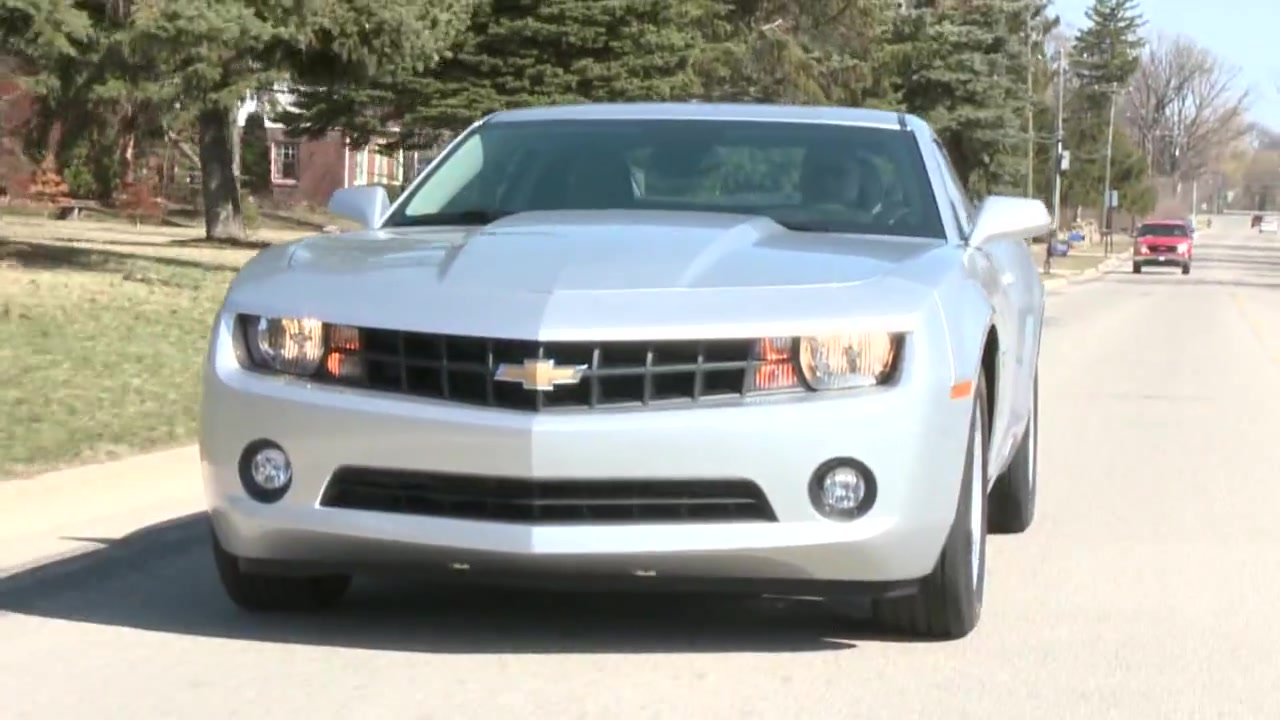car: (195, 80, 1052, 650)
